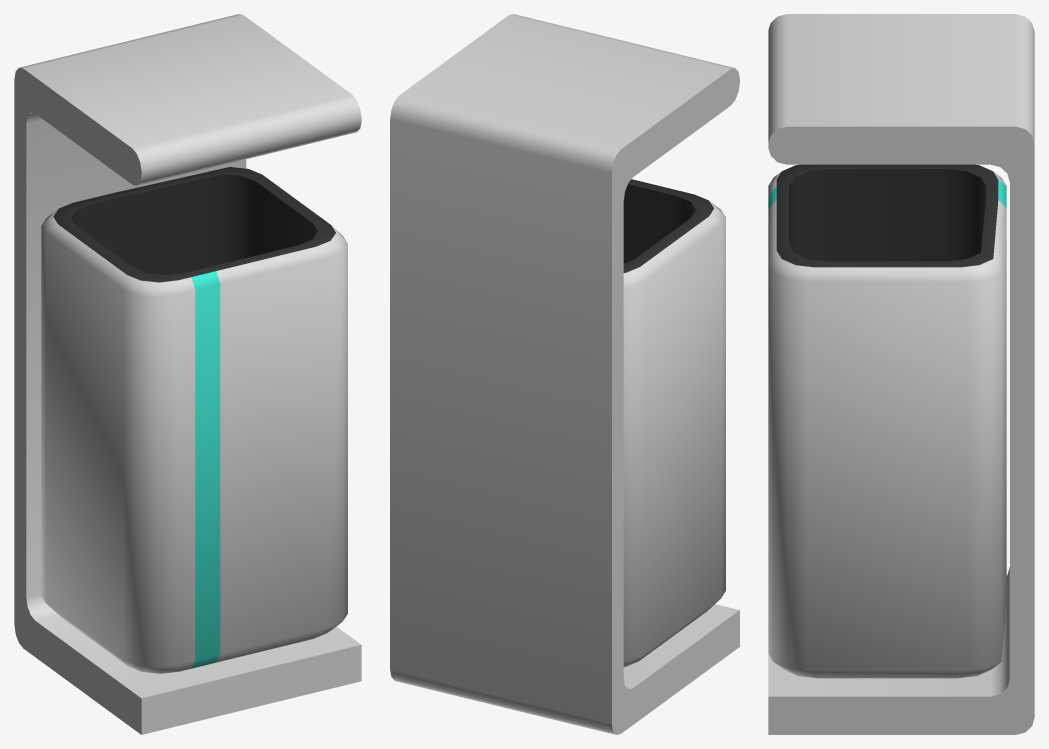
File: Bin Test.fbx
3 renders of one model, left to right at view 1: azimuth 30°, elevation 25°; view 2: azimuth 150°, elevation 25°; view 3: azimuth 270°, elevation 25°, orthographic. The views are drawn at different scales.
Visible parts, largest first — view 1: Bin; view 2: Bin; view 3: Bin.
Part boxes in pixels (x1,y1,x2,y2): Bin: (14, 14, 361, 734); Bin: (390, 14, 739, 734); Bin: (768, 14, 1034, 734).
Bounding box in the file's own units: 0.3176 × 0.8 × 0.3176.
